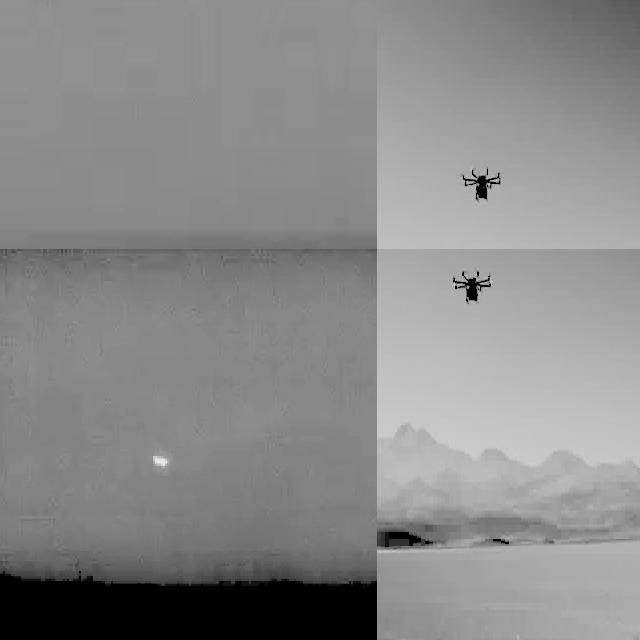1: (142, 450, 178, 480)
drone: (450, 262, 498, 314), (462, 159, 504, 210)
